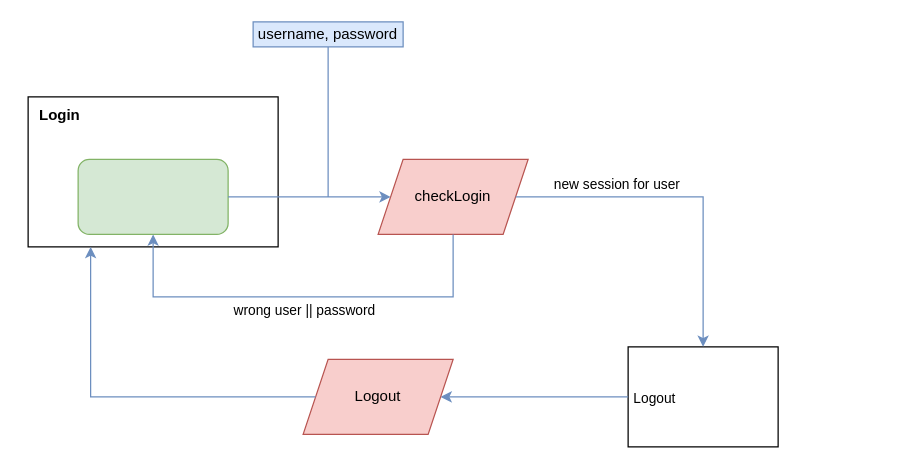
Image size: 899x469. Some labels were removed from this diagram. The centre of each missing label's shape, as x and y in pixels:
"Form [Field: username, Field: password]" belongs at (x=152, y=196).
"Home" belongs at (x=702, y=396).
